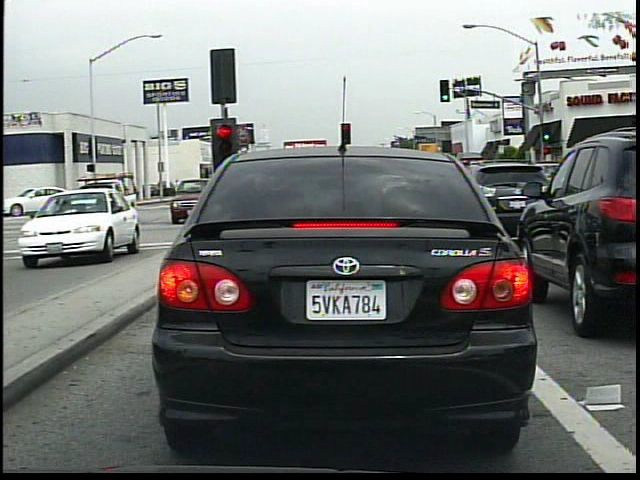person: (175, 176, 180, 195)
